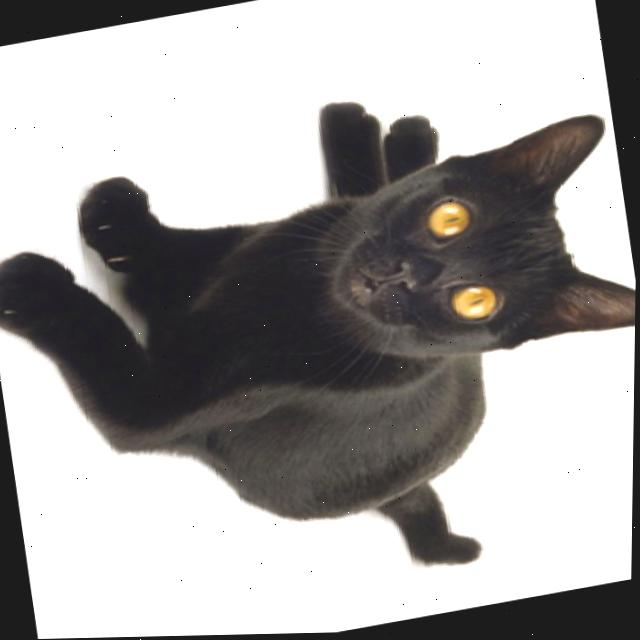Bombay: (0, 55, 639, 640)
